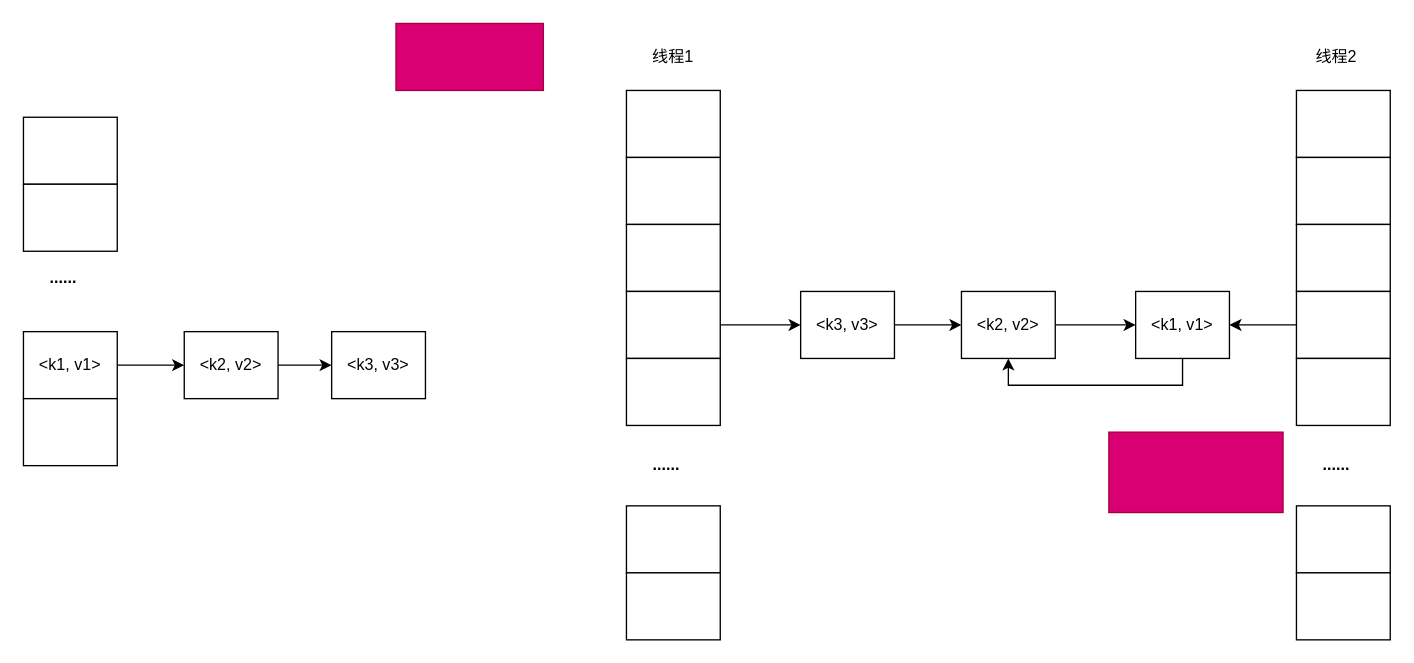
Image size: 1414x663. Some labels were removed from this diagram. Here are the shapes that lost their labels. From the top down, the centre of each, then its label:
At point (469, 56): "当2个线程同时写入数据，触发resize时".
At point (1195, 472): "如果把线程2的结果赋值给hashmap中的数组的话，k3,v3数据就会丢了".
